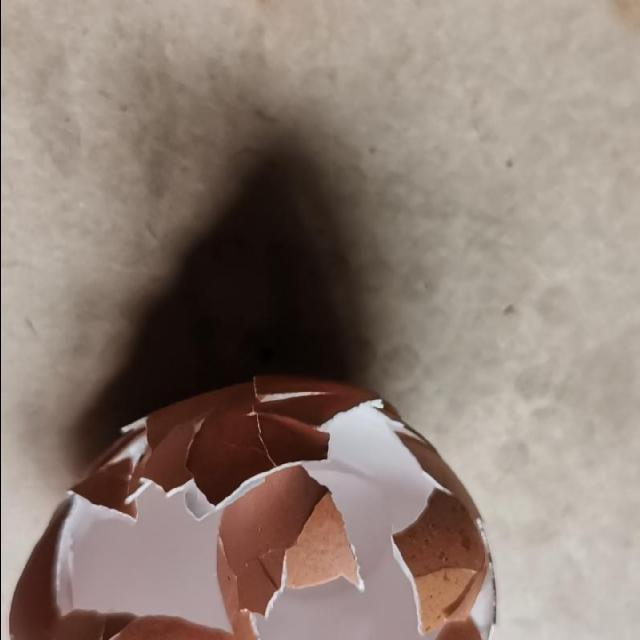egg shell: (9, 372, 498, 640)
